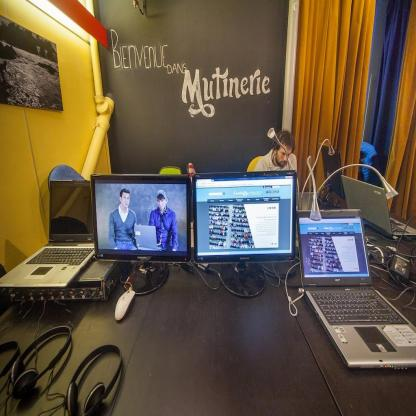board: (302, 200, 407, 376), (0, 180, 96, 288), (342, 177, 416, 238)
